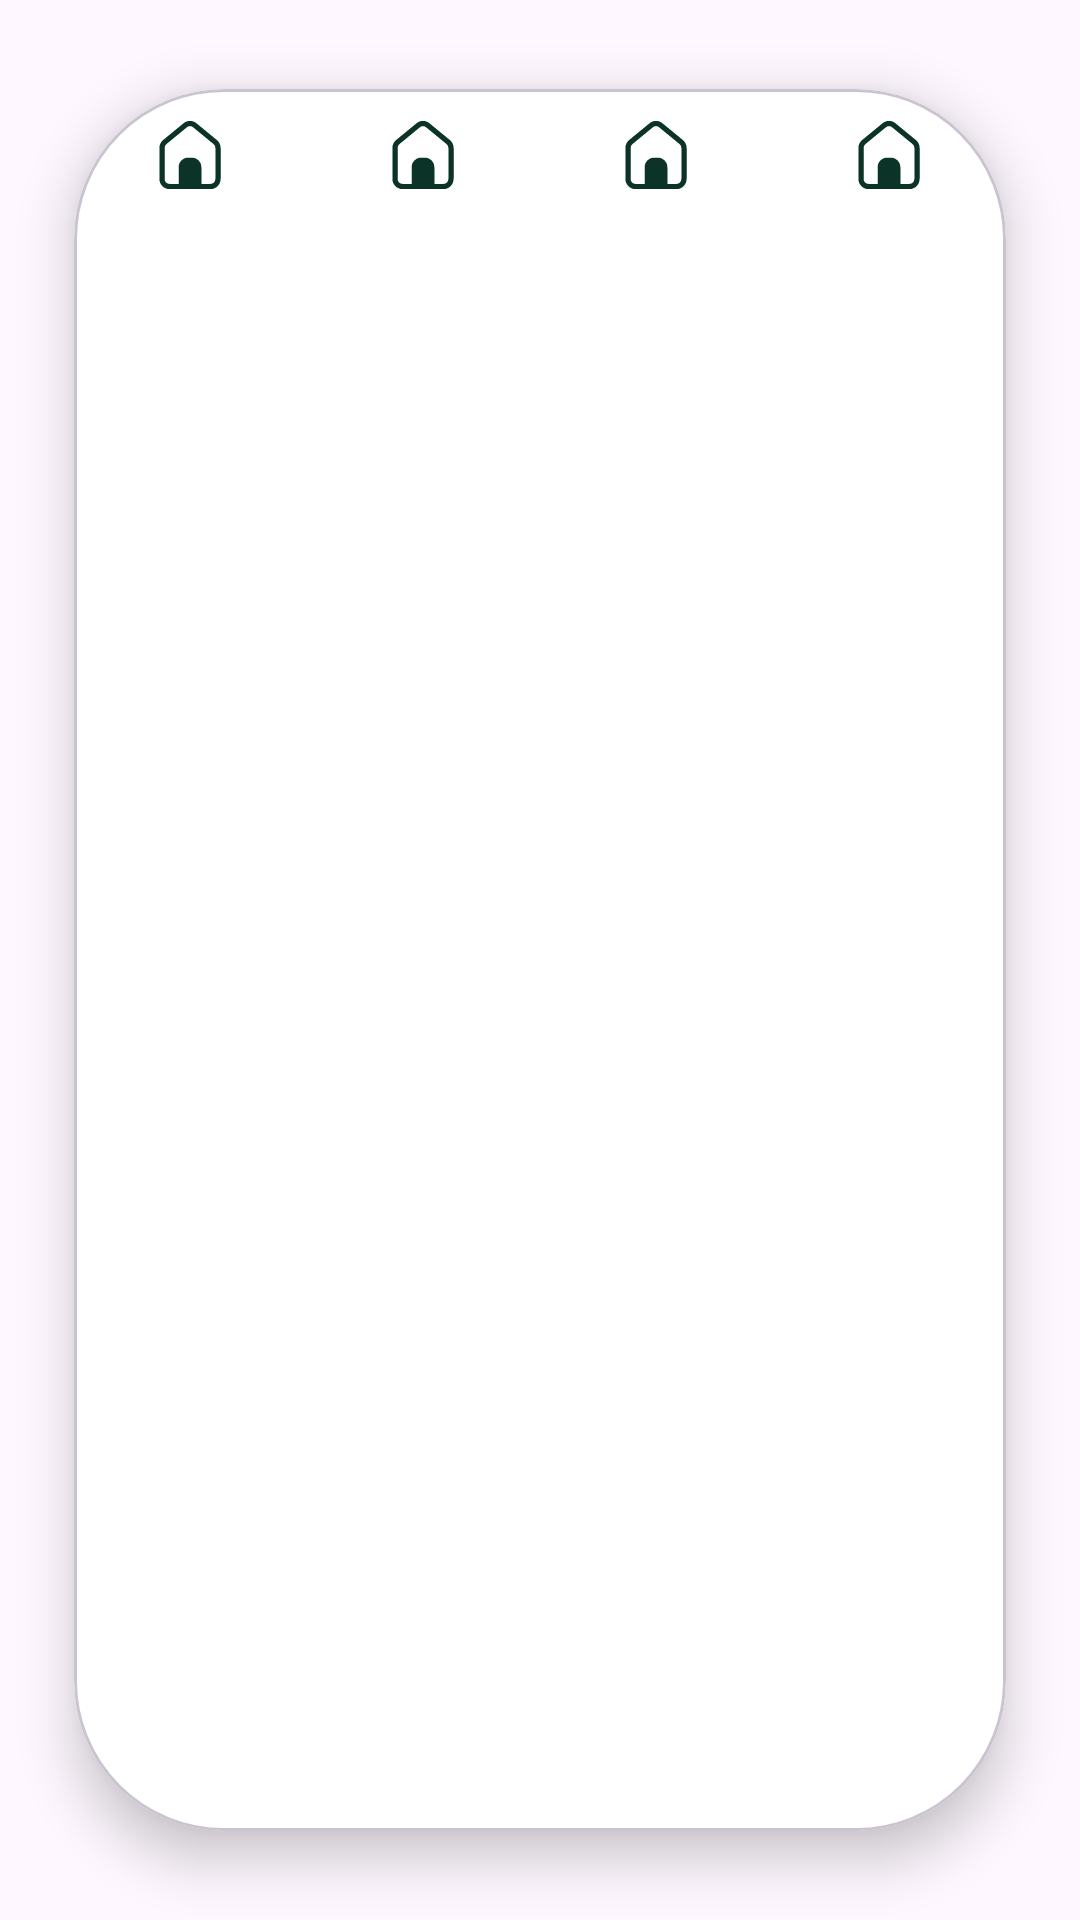

Screen size 1080*1920. Icon name, then its center in pixels as [x,y]:
home: [190,155], [423,155], [656,155], [889,155]
